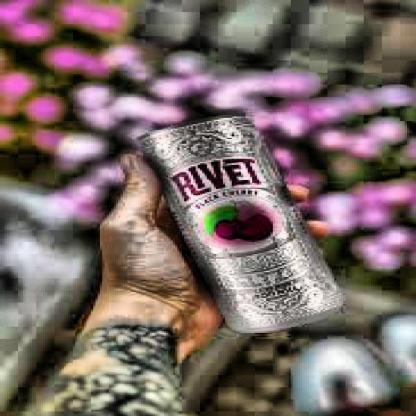Can: (128, 107, 352, 341)
